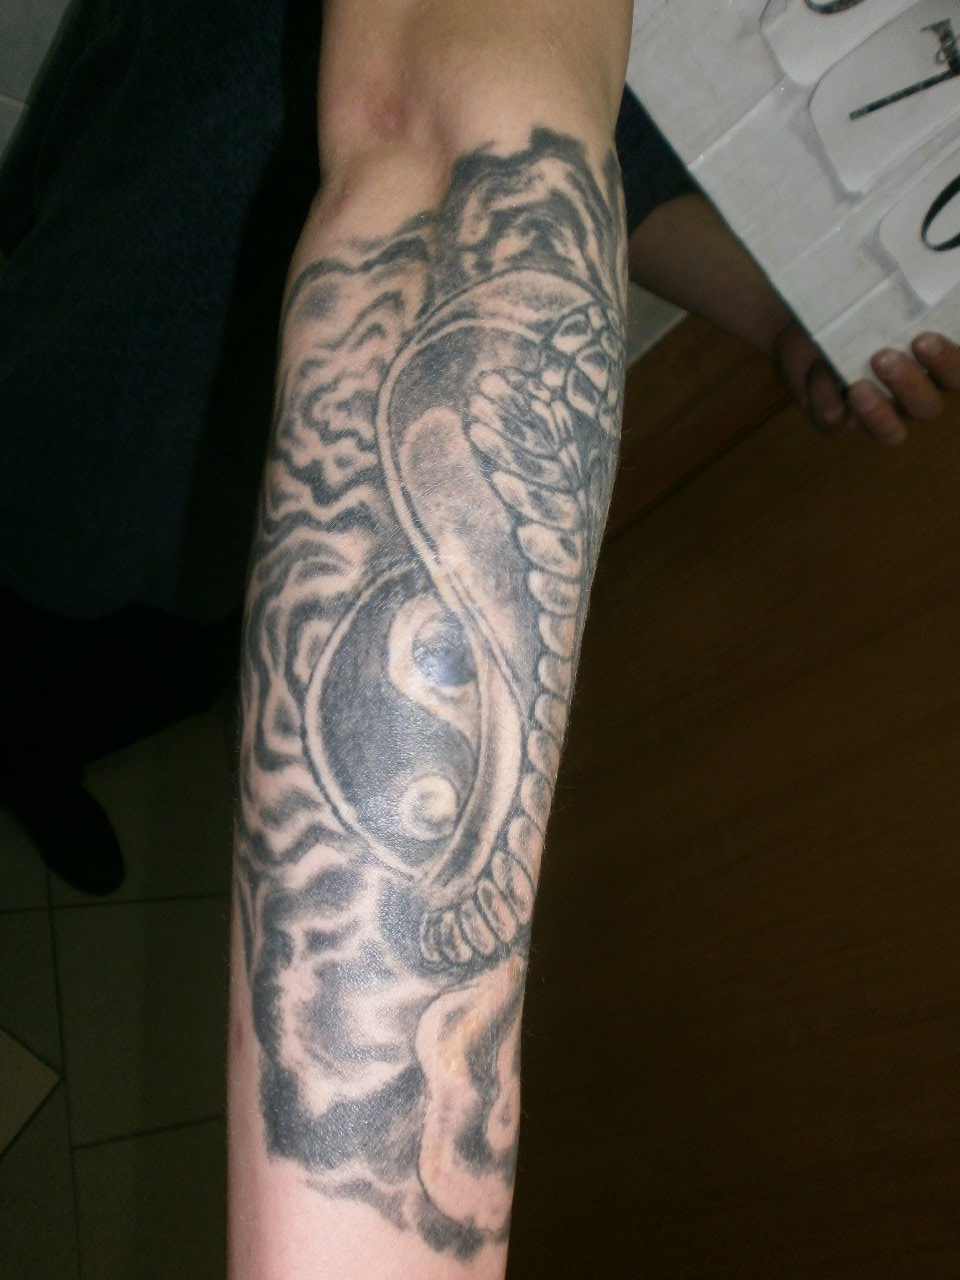tatu7_zmeya: (323, 159, 608, 1012)
